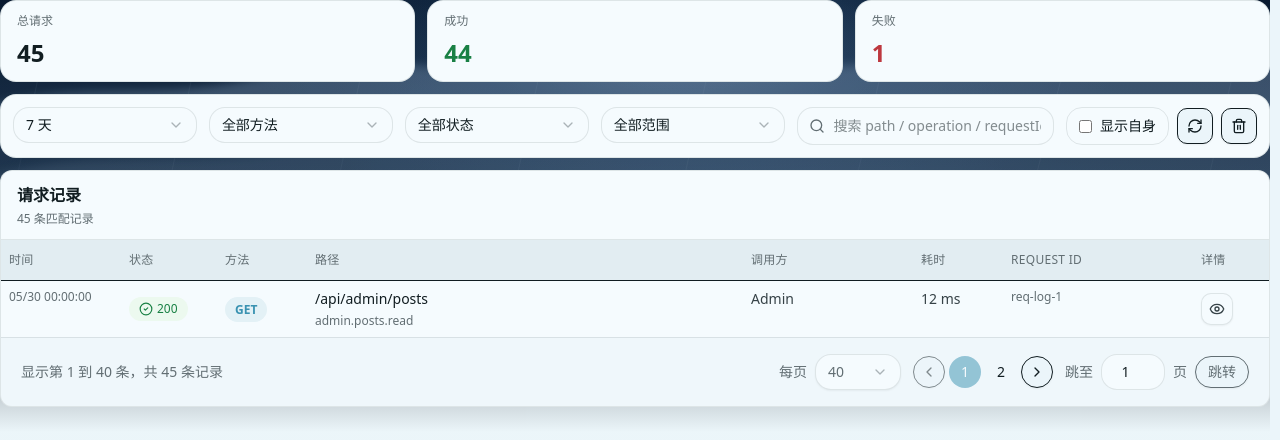
ApiOperationLogsClient › renders page controls and loads the selected log page
Expected: the text "/api/admin/posts" is shown, [315, 288, 428, 308]
Expected: the text "显示第 1 到 40 条，共 45 条记录" is shown, [21, 362, 223, 382]
Click the button named "下一页". click: (1037, 372)
box: [1021, 356, 1053, 388]
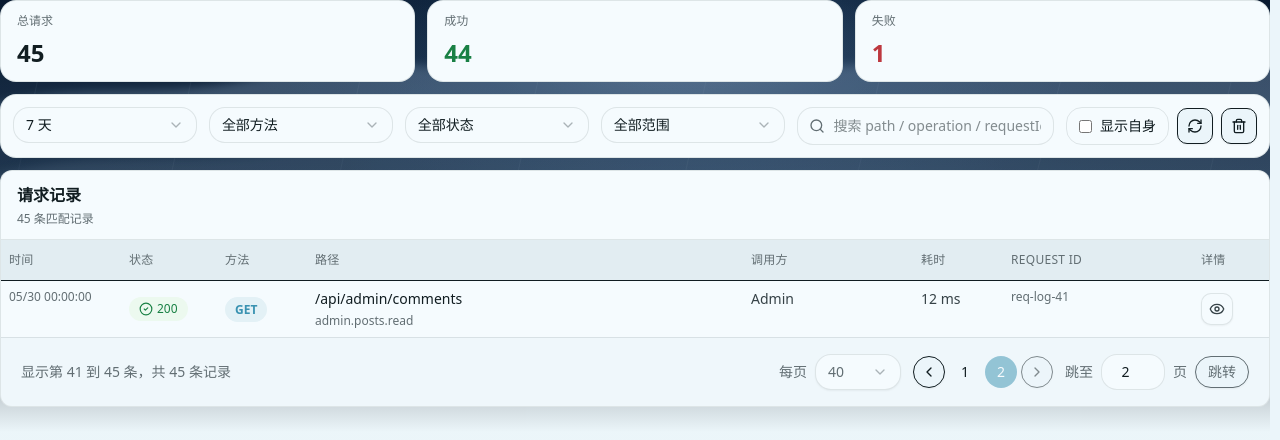
Expected: the text "/api/admin/comments" is shown, [315, 288, 462, 308]
Expected: the text "显示第 41 到 45 条，共 45 条记录" is shown, [21, 362, 231, 382]
